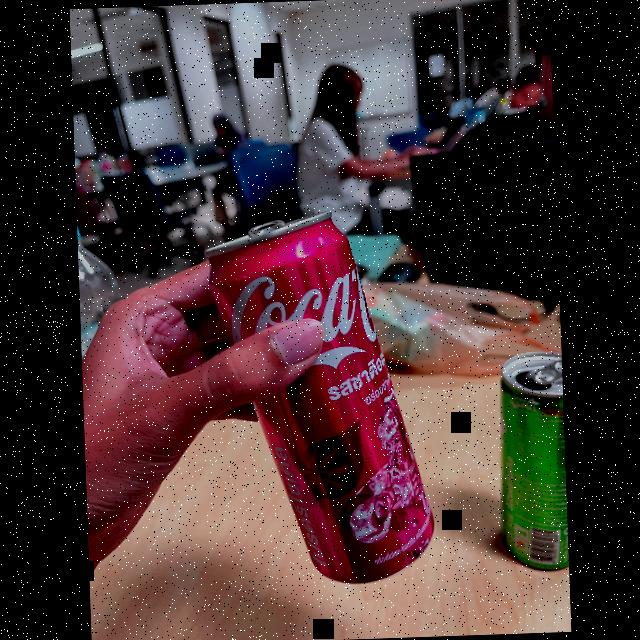can: (188, 199, 462, 593), (486, 353, 570, 582)
